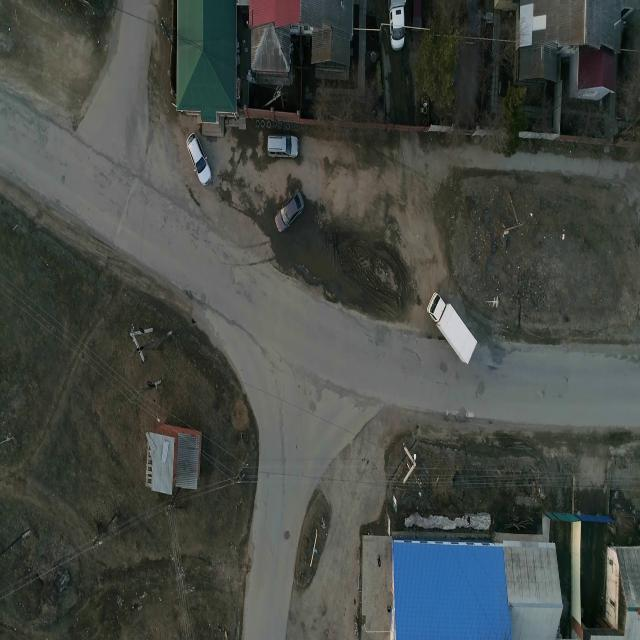vehicle: (426, 290, 479, 364), (186, 132, 212, 186), (274, 191, 306, 232), (266, 133, 298, 159), (390, 4, 405, 51)
